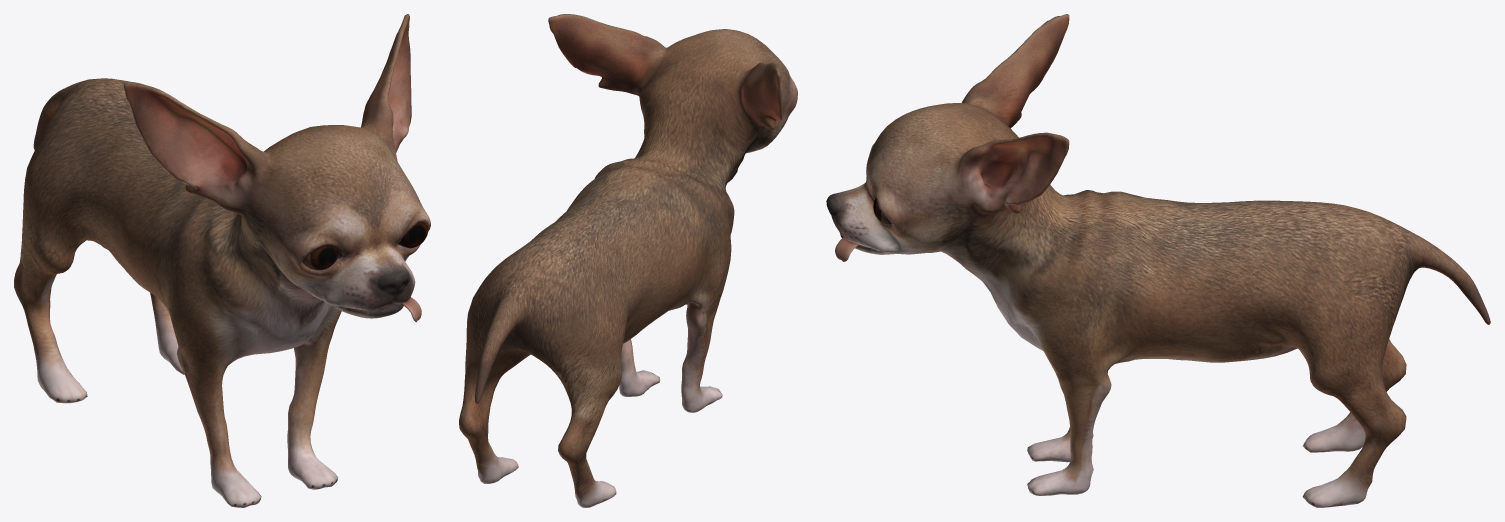
The model's file is Dogo.fbx.
The picture shows the model from 3 angles, left to right: view 1: azimuth 30°, elevation 25°; view 2: azimuth 150°, elevation 25°; view 3: azimuth 270°, elevation 25°; orthographic projection. The views are drawn at different scales.
Visible parts, largest first — view 1: Object004j, Object001; view 2: Object004j; view 3: Object004j.
Boxes of the visible parts, x1,y1,x2,y2 form: Object004j: (14,14,430,507); Object001: (302,223,428,270); Object004j: (459,14,797,507); Object004j: (826,14,1490,507).
Bounding box in the file's own units: 33.35 × 48.94 × 73.57.
